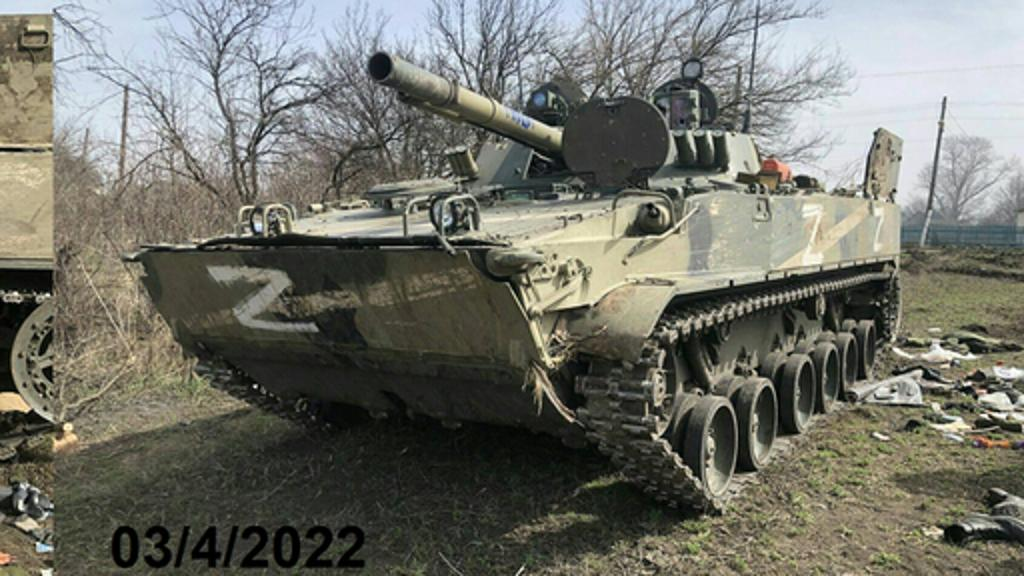APC-IFV: (132, 42, 916, 514)
